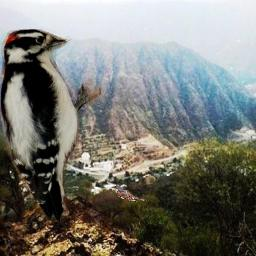Cuckoo: (111, 185, 149, 203)
Woodpecker: (1, 29, 101, 222)
